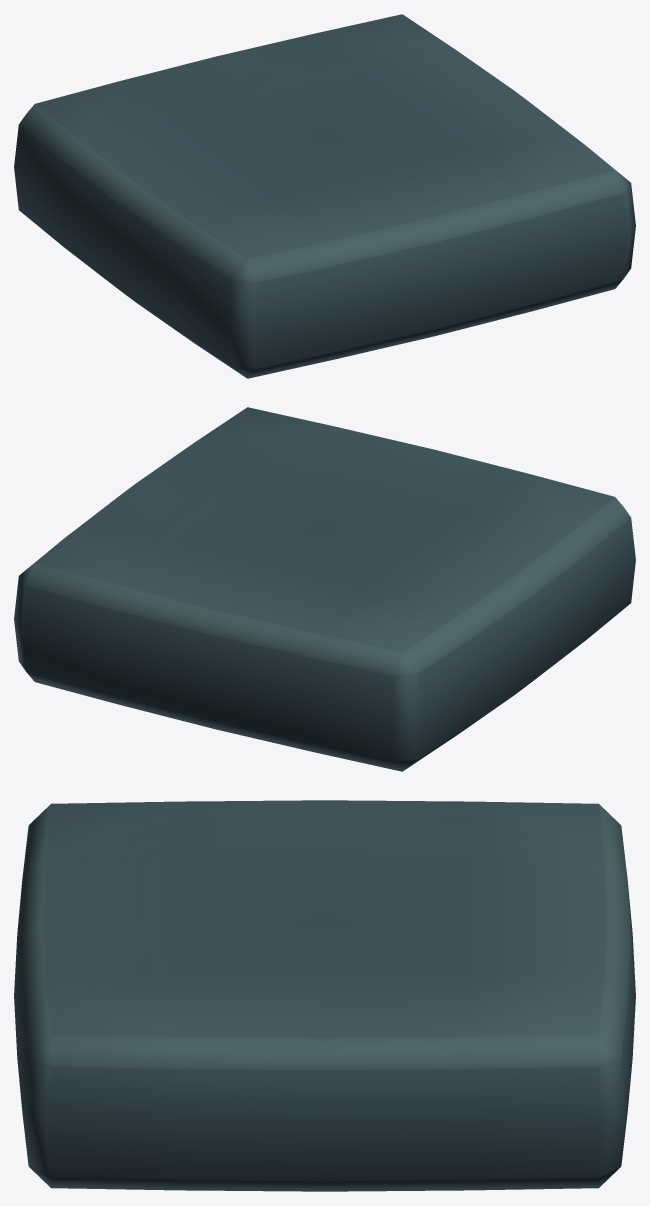
File: cube_05_shade_5_LOD_setup.fbx
The picture shows the model from 3 angles, top to bottom: view 1: azimuth 30°, elevation 25°; view 2: azimuth 150°, elevation 25°; view 3: azimuth 270°, elevation 25°; orthographic projection. The views are drawn at different scales.
Parts seen in each view (by area): view 1: cube_05_shade_5_LOD0; view 2: cube_05_shade_5_LOD0; view 3: cube_05_shade_5_LOD0.
Boxes of the visible parts, x1,y1,x2,y2 form: cube_05_shade_5_LOD0: [14, 14, 635, 378]; cube_05_shade_5_LOD0: [14, 407, 635, 771]; cube_05_shade_5_LOD0: [14, 800, 635, 1191].
Size of what is drawn, in the model's own units: 214 by 58.2 by 214.
